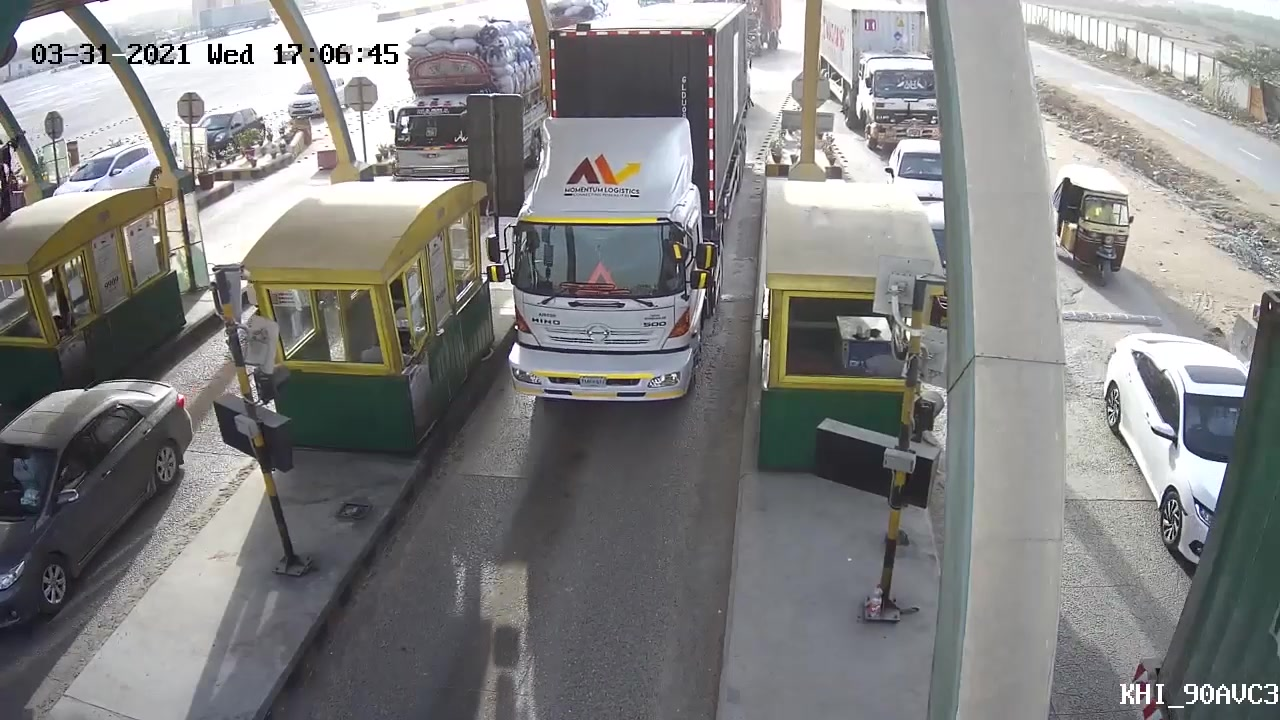F6: (484, 1, 761, 410)
